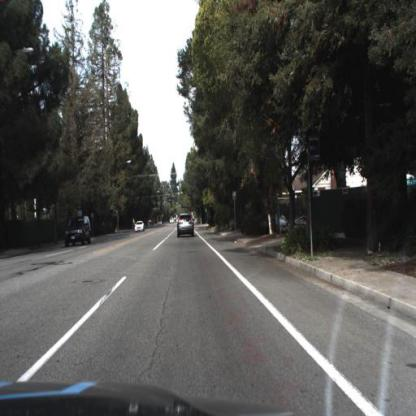car: (64, 215, 92, 247), (176, 209, 197, 240), (133, 217, 149, 238), (134, 219, 146, 235)
